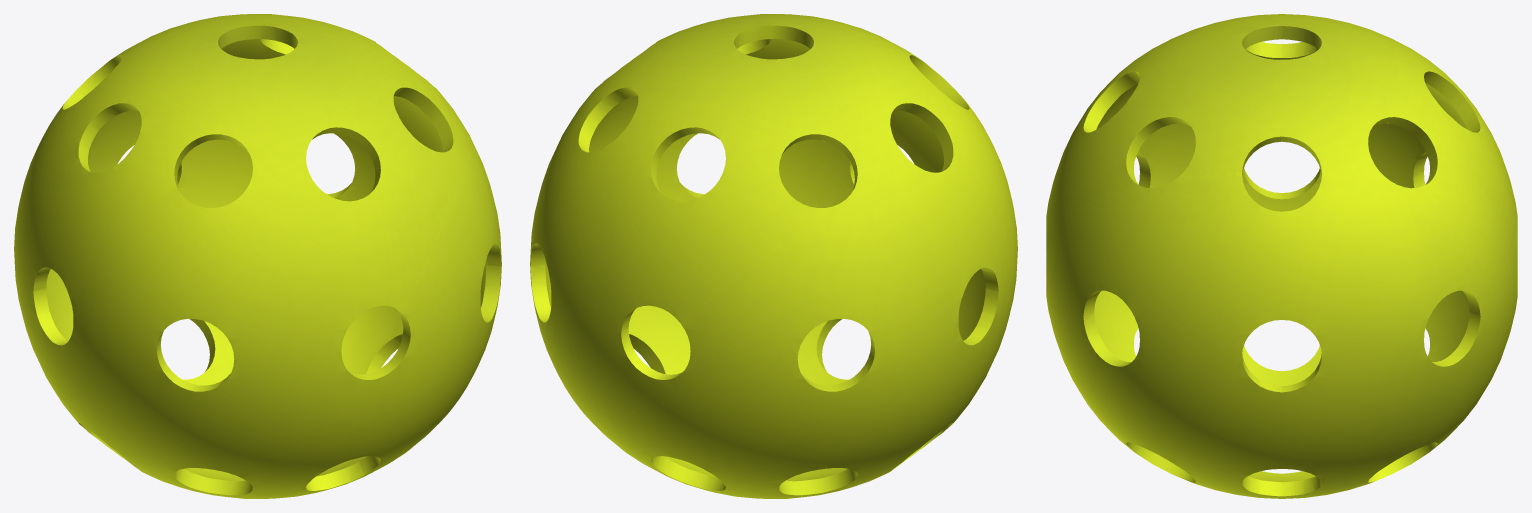
The model's file is pickle_ball.glb.
3 renders of one model, left to right at view 1: azimuth 30°, elevation 25°; view 2: azimuth 150°, elevation 25°; view 3: azimuth 270°, elevation 25°, orthographic.
Parts seen in each view (by area): view 1: Cube; view 2: Cube; view 3: Cube.
Part boxes in pixels (x1,y1,x2,y2): Cube: [14, 14, 501, 498]; Cube: [530, 14, 1017, 498]; Cube: [1046, 14, 1517, 498].
Size of the model in its own units: 1.66 by 1.66 by 1.66.
Materials: 1 (1 with a texture image).
